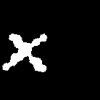single_crochet: (3, 34, 46, 71)
